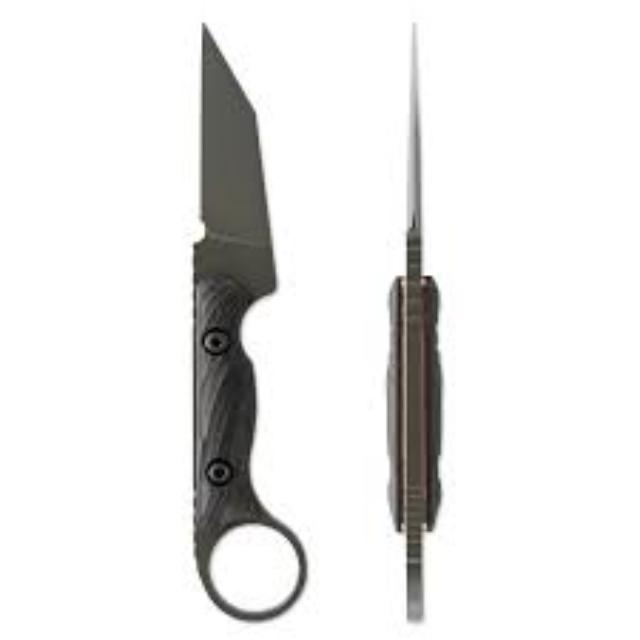Knife: (191, 20, 307, 620), (384, 20, 440, 622)
